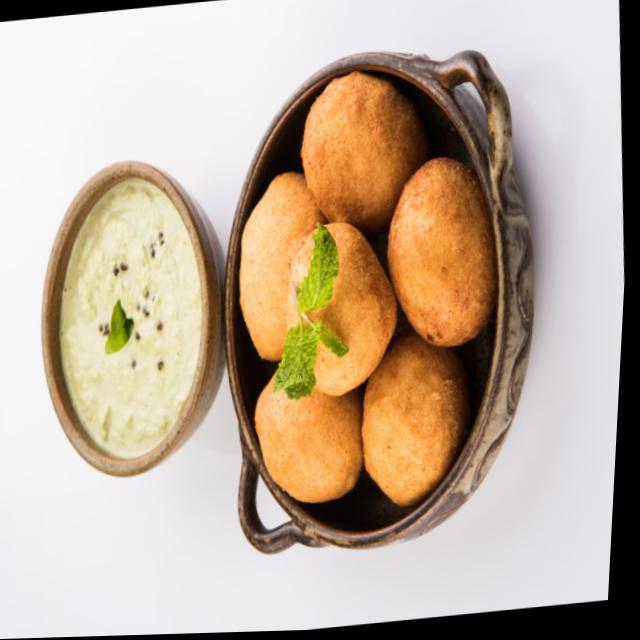BONDA: (237, 59, 491, 501)
WHITE CHUTNEY: (46, 177, 198, 467)
